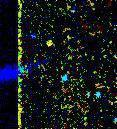star: (33, 31, 63, 61)
